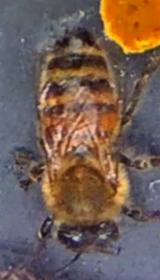varroa_mite: (39, 116, 70, 147)
